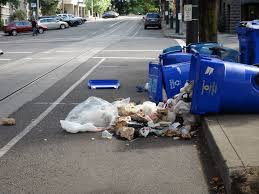garbage: (73, 96, 200, 135)
